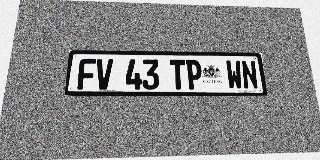3: (142, 59, 159, 90)
4: (125, 59, 142, 90)
F: (77, 59, 96, 90)
N: (241, 60, 259, 89)
P: (186, 60, 203, 89)
T: (170, 60, 186, 89)
V: (95, 59, 113, 90)
W: (225, 60, 243, 89)
